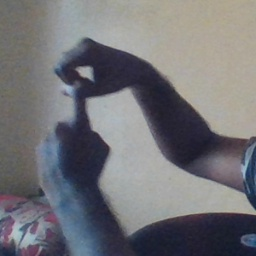Q: (34, 33, 133, 175)
